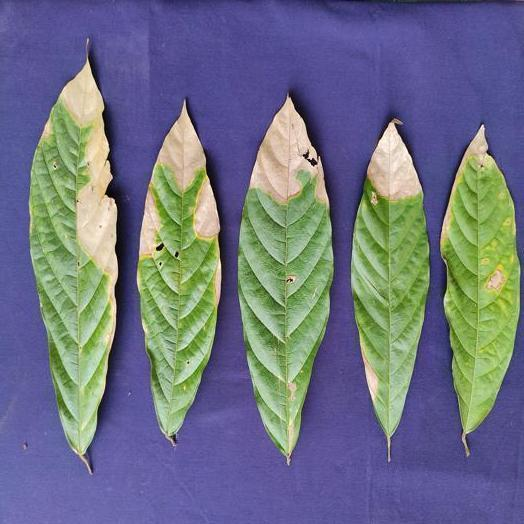Potassium: (30, 58, 117, 472), (239, 97, 333, 462), (137, 101, 220, 445), (351, 120, 429, 461), (441, 126, 519, 455)
